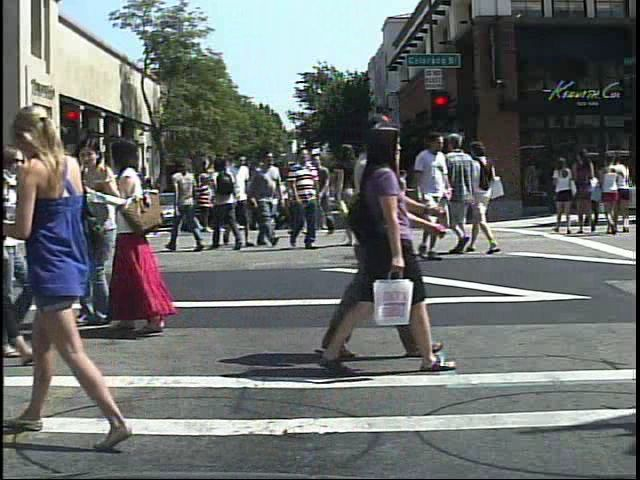person: (30, 85, 133, 451), (314, 116, 434, 381), (107, 132, 196, 343), (374, 106, 428, 367), (77, 130, 121, 332), (462, 134, 508, 265), (434, 129, 479, 262), (334, 138, 377, 252), (286, 142, 324, 252), (248, 147, 286, 256), (208, 152, 247, 256), (370, 145, 408, 249), (219, 149, 256, 253), (168, 151, 204, 256), (412, 132, 452, 203), (552, 152, 580, 237), (194, 170, 214, 239), (66, 182, 86, 232)
